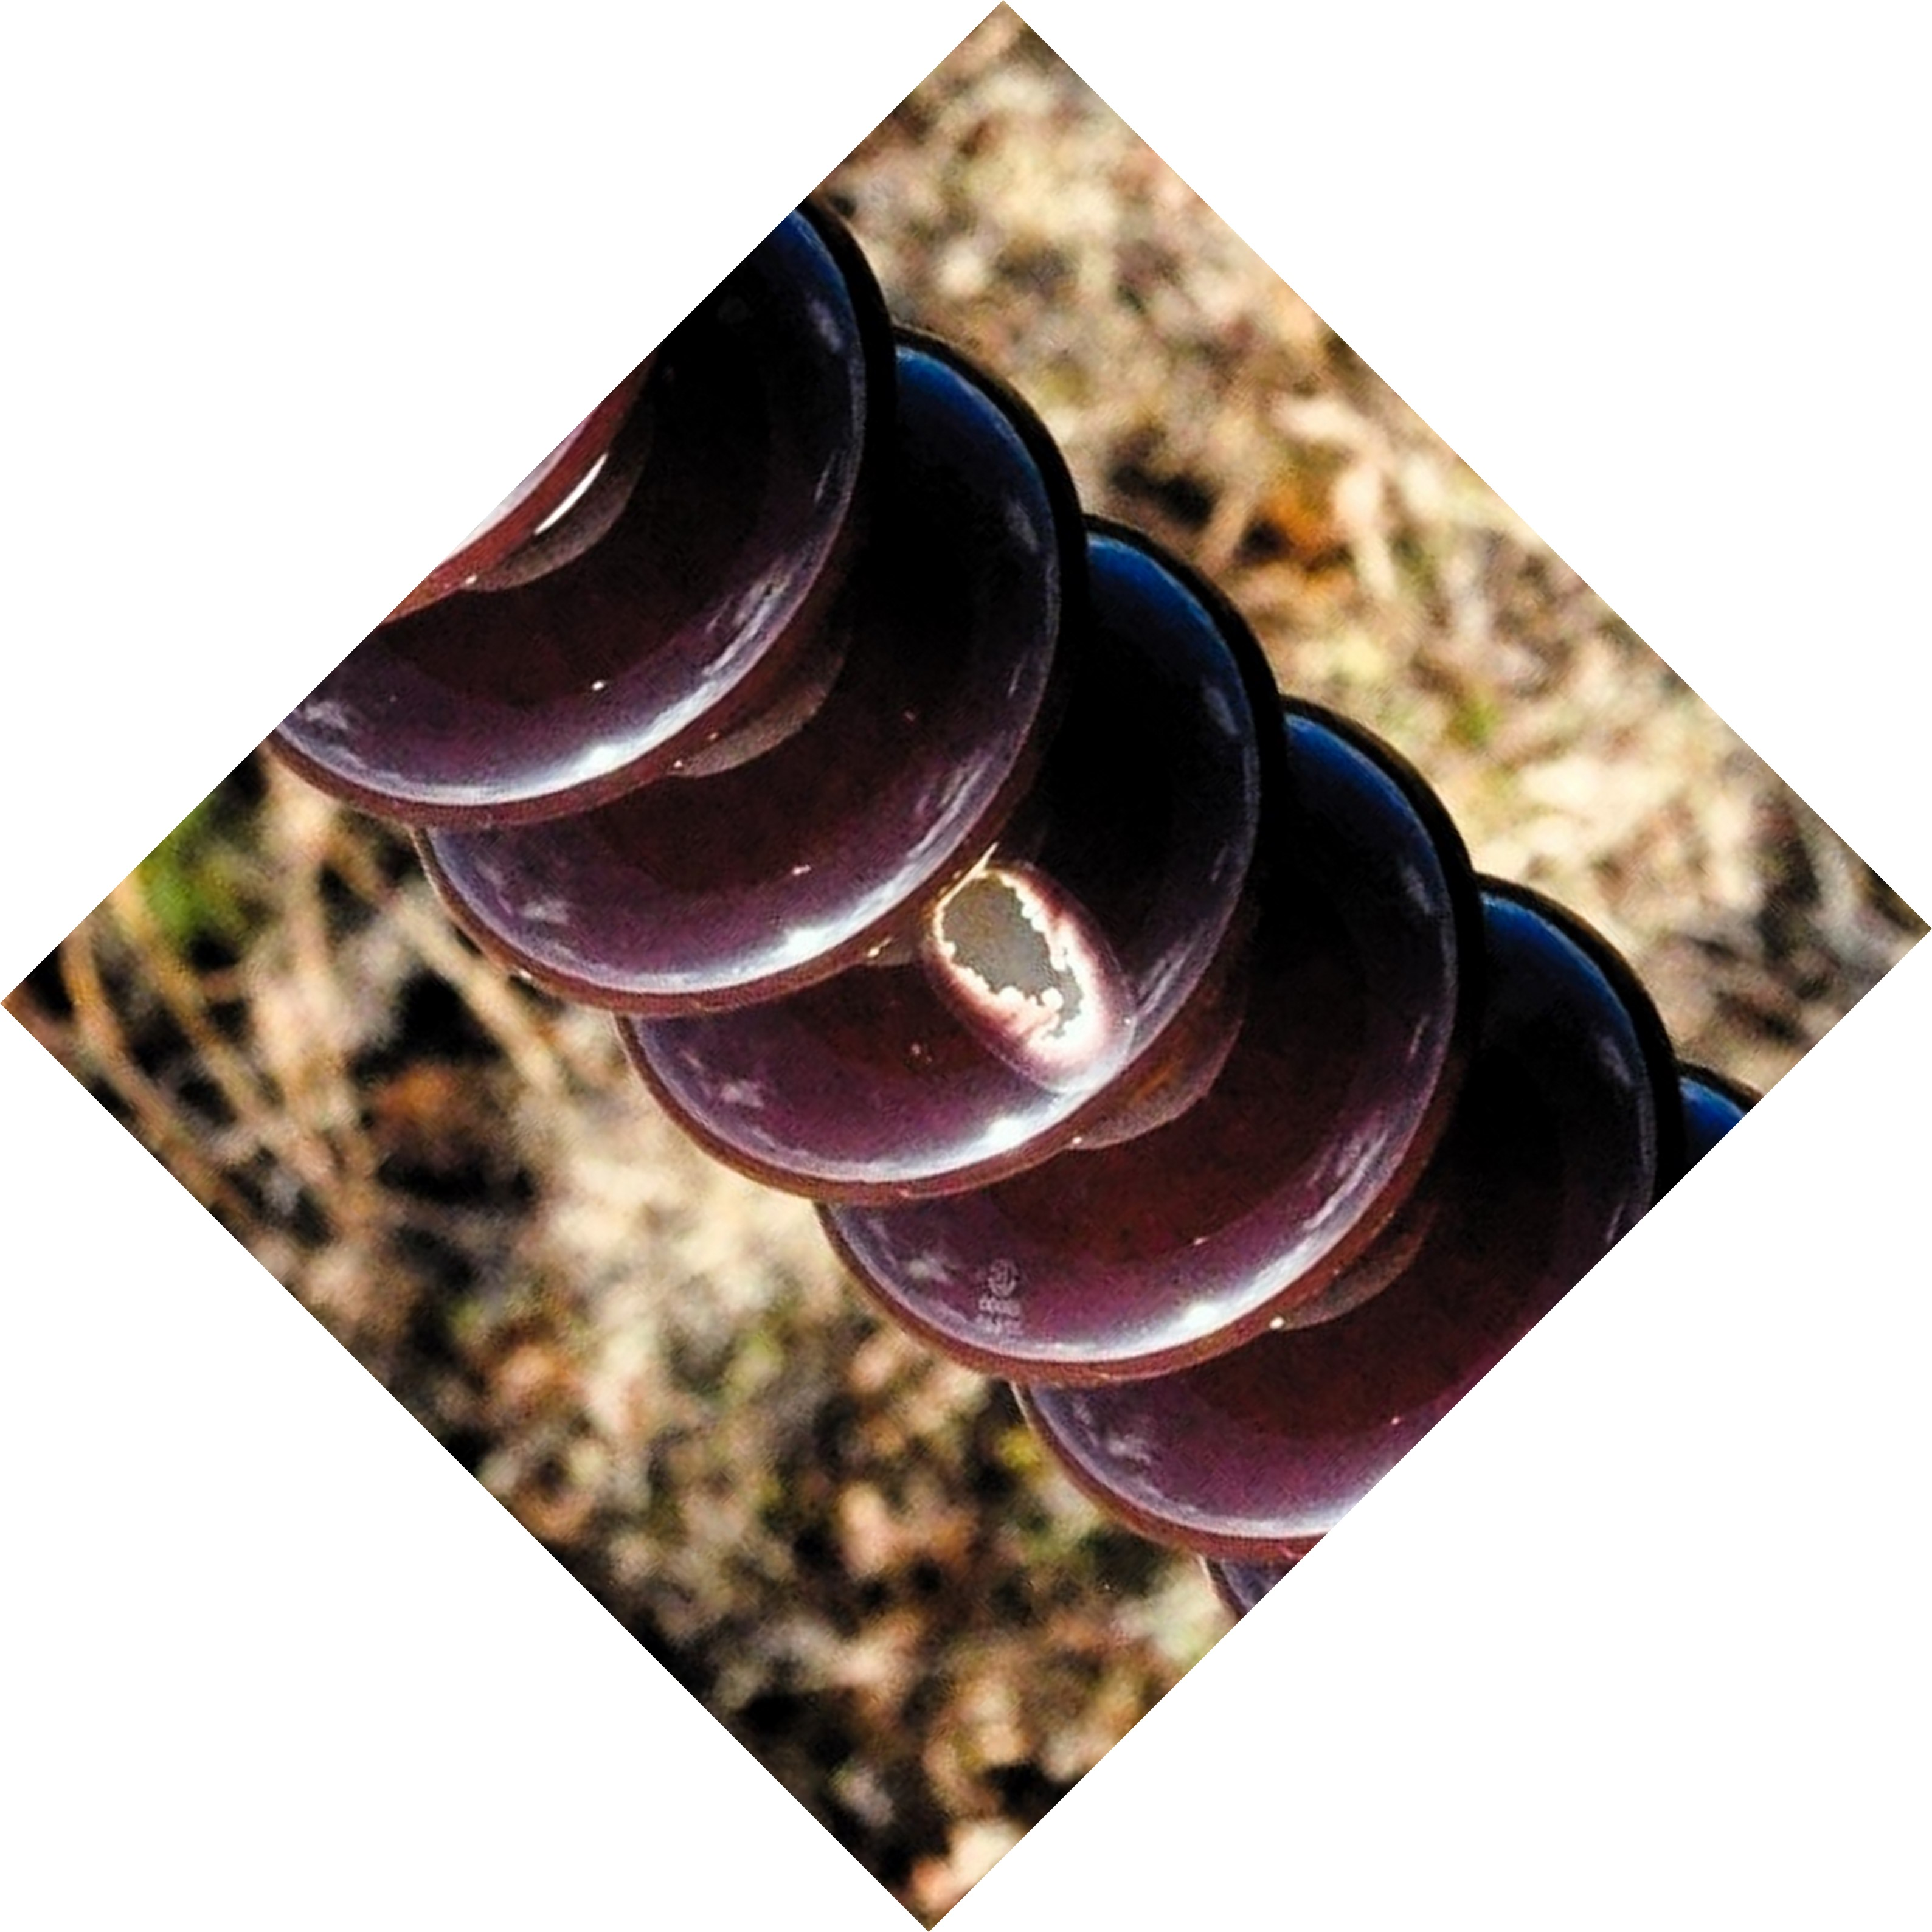Insulator flashover: (644, 525, 1295, 1217)
